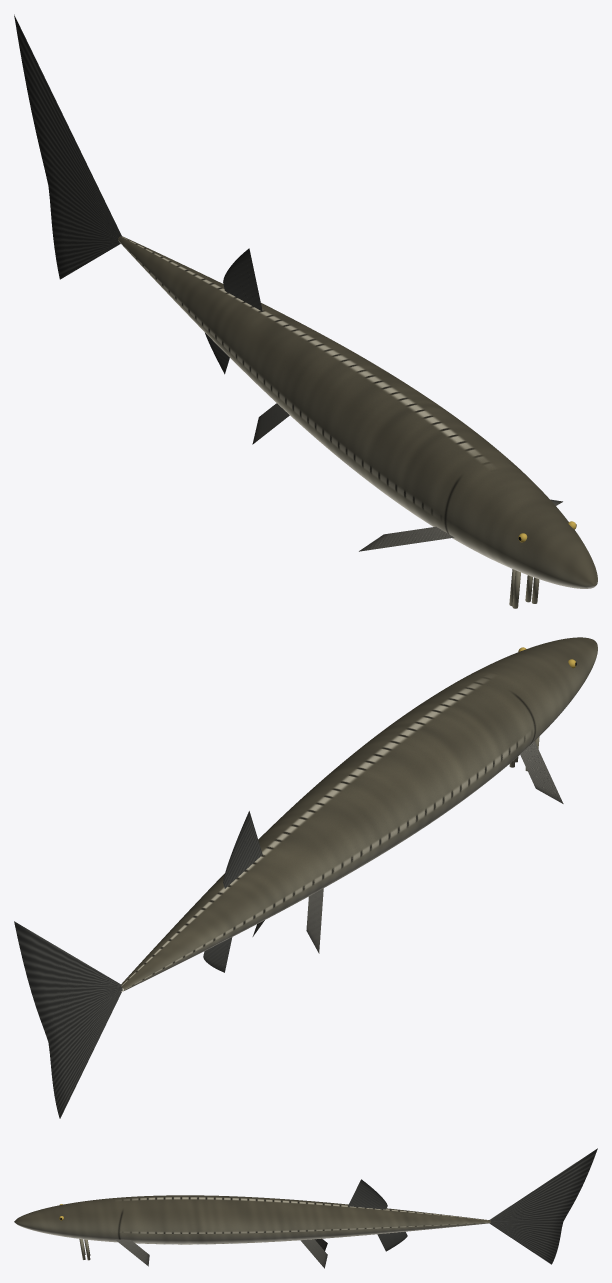
The model's file is osetr.obj.
3 renders of one model, top to bottom at view 1: azimuth 30°, elevation 25°; view 2: azimuth 150°, elevation 25°; view 3: azimuth 270°, elevation 25°, orthographic. The views are drawn at different scales.
Parts seen in each view (by area): view 1: body, fin_tail, fin_dorsal0, fin_pect_R; view 2: body, fin_tail, fin_dorsal0, fin_pect_R, fin_pelv_R; view 3: body, fin_tail, fin_dorsal0, fin_anal0, fin_pelv_L, fin_pect_L.
Part boxes in pixels (x1,y1,x2,y2): body: [118, 236, 597, 588]; fin_tail: [14, 14, 122, 279]; fin_dorsal0: [223, 248, 262, 311]; fin_pect_R: [359, 526, 454, 551]; body: [121, 637, 597, 991]; fin_tail: [14, 921, 122, 1118]; fin_dorsal0: [223, 811, 262, 888]; fin_pect_R: [520, 741, 563, 803]; fin_pelv_R: [306, 888, 323, 953]; body: [14, 1195, 490, 1244]; fin_tail: [489, 1148, 597, 1264]; fin_dorsal0: [348, 1179, 387, 1209]; fin_anal0: [377, 1231, 407, 1251]; fin_pelv_L: [300, 1239, 327, 1268]; fin_pect_L: [115, 1239, 149, 1266].
Bounding box in the file's own units: 0.2454 × 0.2645 × 1.2.
6 materials, 3 textured.
